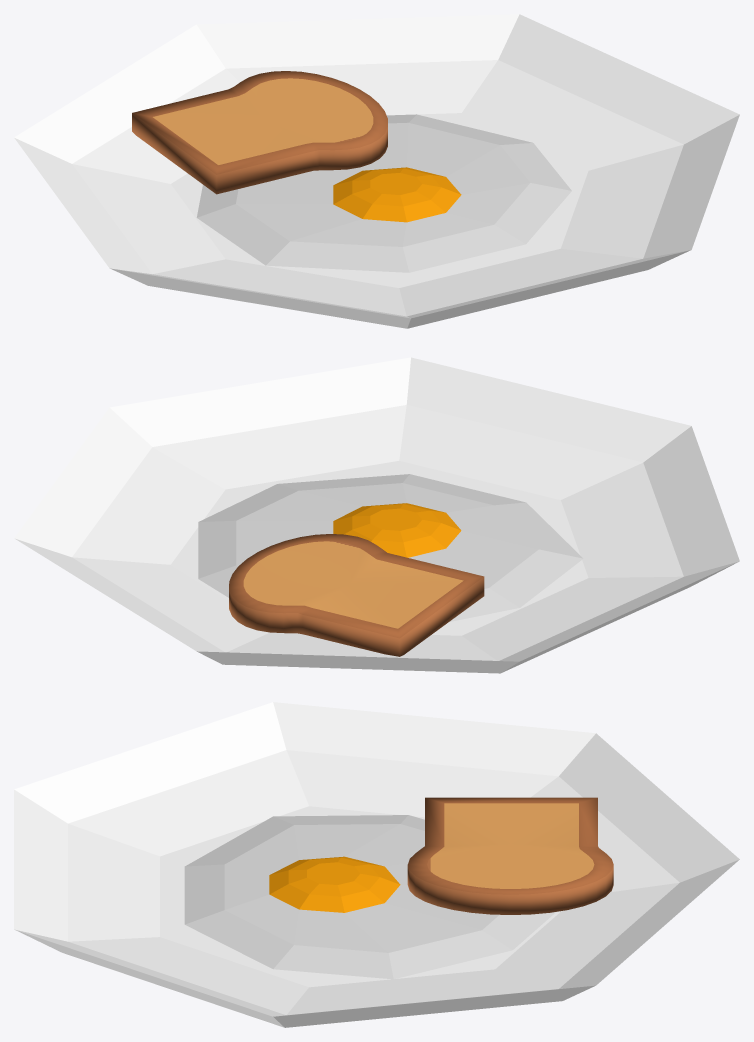
Rendered from FriedEggsWithBread.fbx.
3 renders of one model, top to bottom at view 1: azimuth 30°, elevation 25°; view 2: azimuth 150°, elevation 25°; view 3: azimuth 270°, elevation 25°, orthographic. The views are drawn at different scales.
Parts seen in each view (by area): view 1: Cylinder, Cylinder.001, PAO; view 2: Cylinder, Cylinder.001, PAO; view 3: Cylinder, Cylinder.001, PAO.
Boxes of the visible parts, <box> form: Cylinder: <box>14,14,739,328</box>; Cylinder.001: <box>196,114,571,272</box>; PAO: <box>132,71,387,194</box>; Cylinder: <box>14,357,739,673</box>; Cylinder.001: <box>198,474,583,621</box>; PAO: <box>229,534,484,656</box>; Cylinder: <box>14,702,739,1027</box>; Cylinder.001: <box>184,815,555,979</box>; PAO: <box>407,797,613,914</box>.
Bounding box in the file's own units: 195 × 14.34 × 190.
